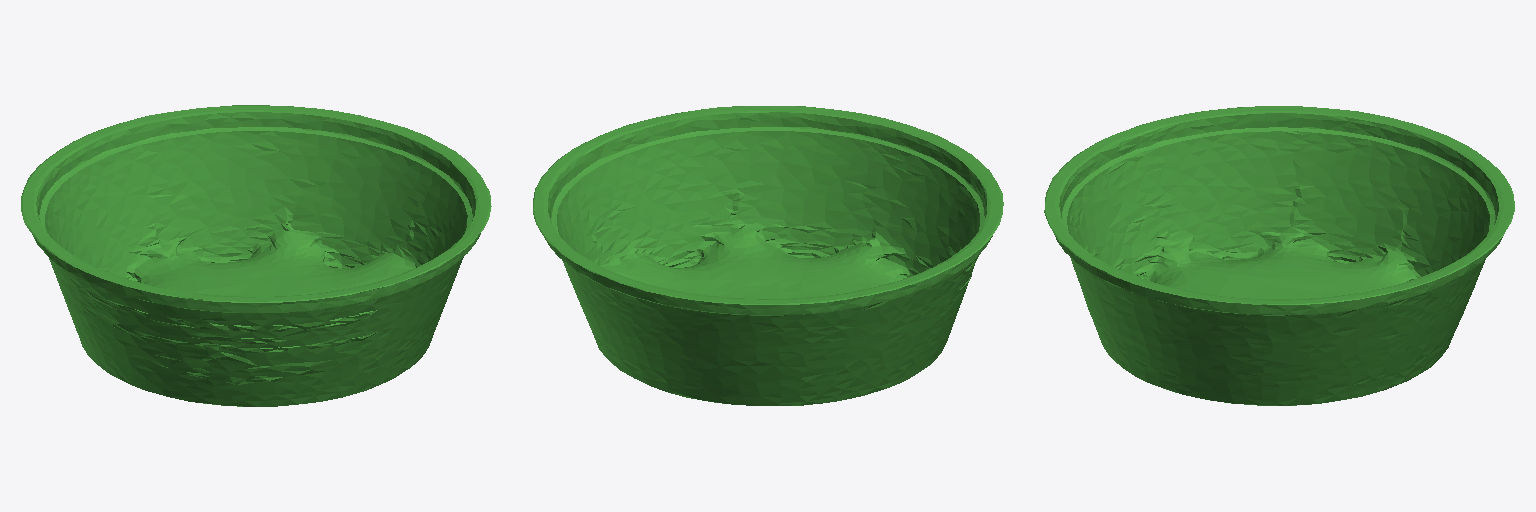
robot.urdf — bowl.urdf:
<?xml version="1.0" ?>
<robot name="bowl.urdf">
  <link name="baseLink">
    <contact>
      <lateral_friction value="1.0"/>
      <inertia_scaling value="3.0"/>
    </contact>
    <inertial>
      <origin rpy="0 0 0" xyz="-0.025 0 0.02"/>
       <mass value=".1"/>
       <inertia ixx="1" ixy="0" ixz="0" iyy="1" iyz="0" izz="1"/>
    </inertial>
    <visual>
      <origin rpy="0 0 0" xyz="0 0 0"/>
      <geometry>
				<mesh filename="textured-0008192.obj" scale="1.25 1.25 0.25"/>
      </geometry>
      <material name="green">
        <color rgba="0.34901961 0.6627451 0.30980392 1"/>
      </material>
    </visual>
    <collision>
      <origin rpy="0 0 0" xyz="0 0 0"/>
      <geometry>
	 	    <mesh filename="cup.obj" scale="1.25 1.25 0.25"/>
      </geometry>
    </collision>
  </link>
</robot>

--- Facts derived from the render (not from the file) ---
Views: 3 orthographic renders of the robot side by side, from view 1: azimuth 30°, elevation 25°; view 2: azimuth 150°, elevation 25°; view 3: azimuth 270°, elevation 25°.
Robot: bowl.urdf — 1 links, 0 joints (none); root link baseLink; default pose: all joints at 0.
Links seen in each view (by area): view 1: baseLink; view 2: baseLink; view 3: baseLink.
Boxes of the visible links, left/top/right/bottom form: baseLink: left=21, top=105, right=491, bottom=406; baseLink: left=533, top=106, right=1003, bottom=405; baseLink: left=1044, top=106, right=1514, bottom=405.
Bounding box of the posed robot: 0.1139 × 0.1139 × 0.0346 m (x, y, z).
1 mesh visuals loaded from 1 distinct referenced files (1 OBJ).